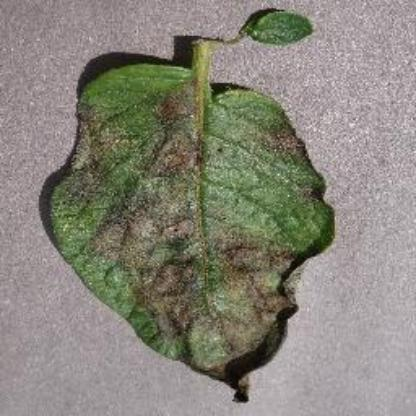Late-Blight: (31, 12, 338, 408)
